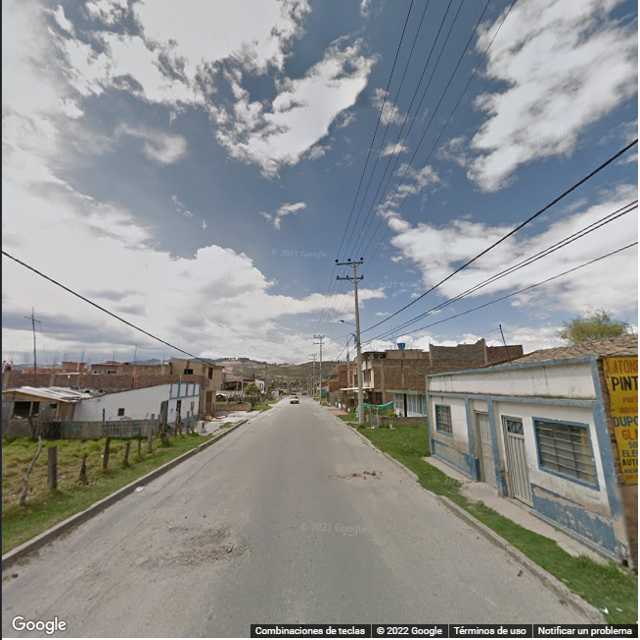D20: (504, 568, 552, 624)
D40: (151, 522, 245, 574)
